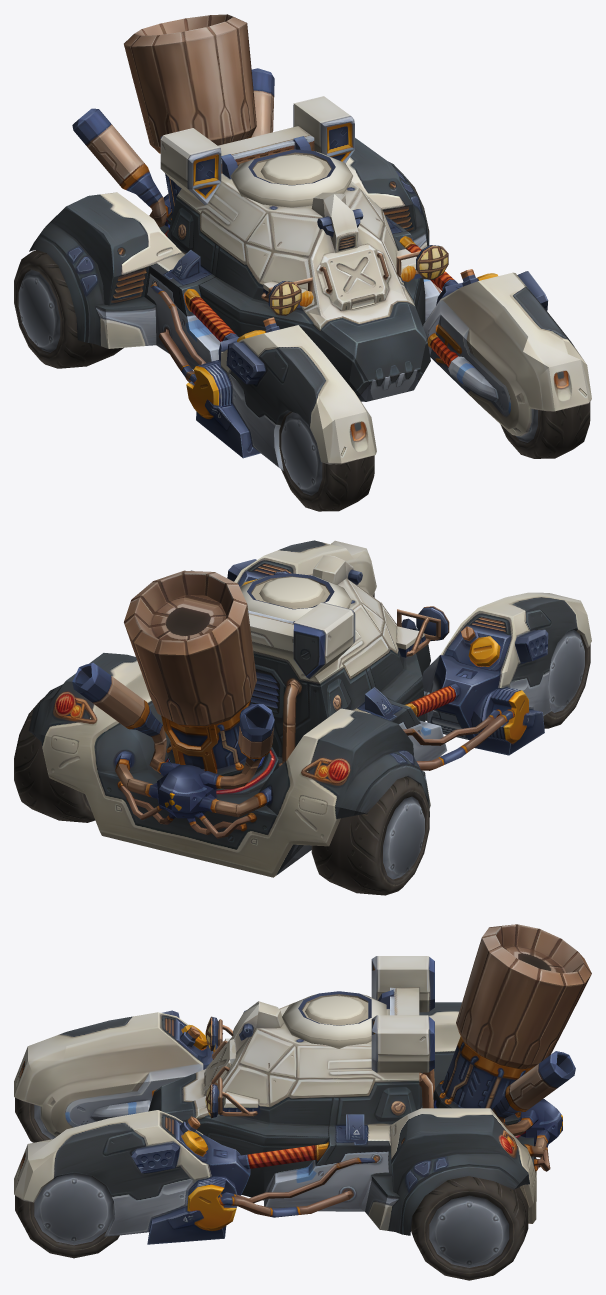
The model's file is CartoonCar.fbx.
3 renders of one model, top to bottom at view 1: azimuth 30°, elevation 25°; view 2: azimuth 150°, elevation 25°; view 3: azimuth 270°, elevation 25°, orthographic. The views are drawn at different scales.
Parts seen in each view (by area): view 1: model_0, model_0.002, model_0.004, OpenRoof, model_0.001; view 2: model_0, model_0.002, model_0.003, OpenRoof, model_0.004; view 3: model_0, model_0.003, model_0.001, OpenRoof, model_0.004.
Boxes of the visible parts, left/top/right/bottom form: model_0: left=29, top=14, right=591, bottom=470; model_0.002: left=14, top=250, right=123, bottom=368; model_0.004: left=279, top=411, right=374, bottom=511; OpenRoof: left=230, top=149, right=352, bottom=207; model_0.001: left=500, top=402, right=590, bottom=458; model_0: left=28, top=540, right=591, bottom=877; model_0.002: left=311, top=776, right=429, bottom=895; model_0.003: left=14, top=698, right=95, bottom=822; OpenRoof: left=240, top=573, right=351, bottom=621; model_0.004: left=543, top=630, right=590, bottom=728; model_0: left=14, top=924, right=591, bottom=1244; model_0.003: left=411, top=1176, right=528, bottom=1280; model_0.001: left=15, top=1173, right=119, bottom=1258; OpenRoof: left=282, top=991, right=386, bottom=1048; model_0.004: left=15, top=1097, right=55, bottom=1142.
Bounding box in the file's own units: 302 × 222 × 431.
Materials: 1 (1 with a texture image).
